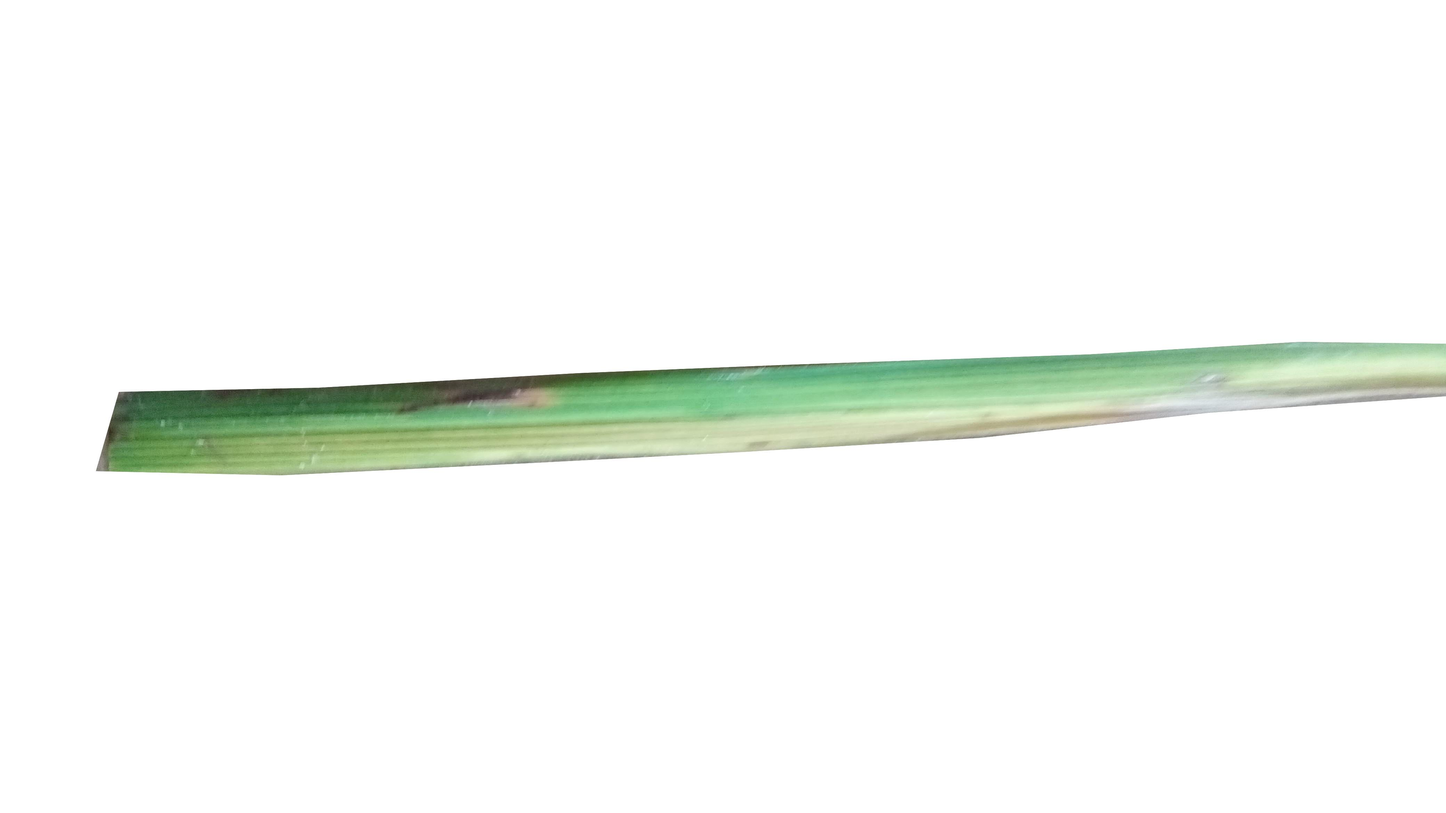Rice blast: (389, 375, 610, 412)
